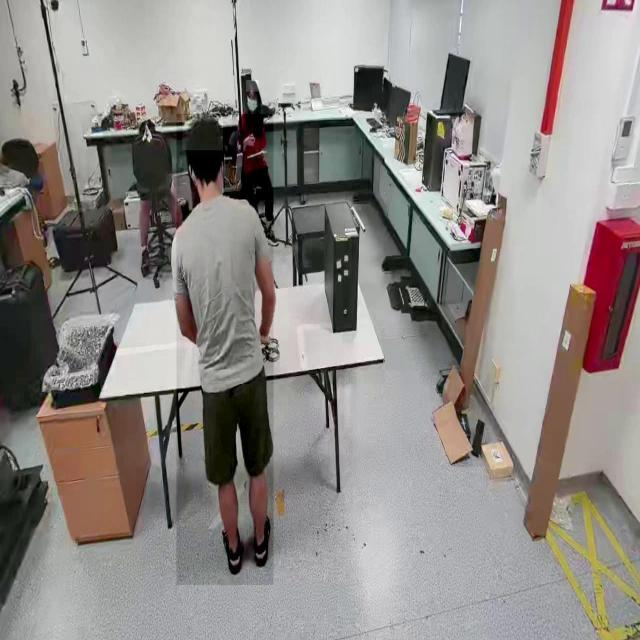face_mask: (249, 89, 261, 116)
hand_noglove: (244, 132, 256, 146)
head_nohelmet: (183, 115, 223, 150), (246, 80, 259, 92)
person: (176, 114, 274, 586), (232, 81, 286, 226)
